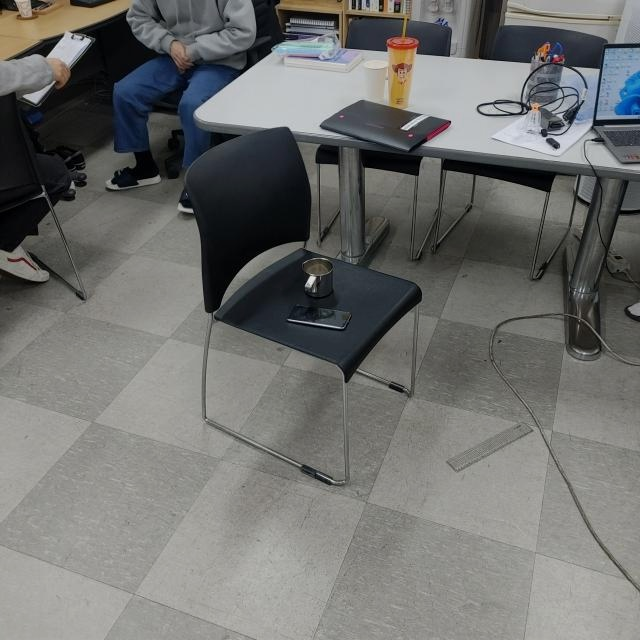cup: (299, 256, 336, 302)
phone: (288, 303, 352, 331)
